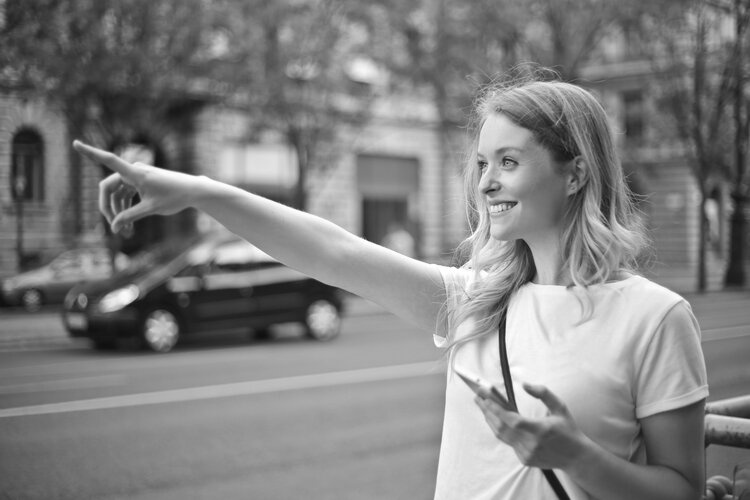pointing_gesture: (65, 139, 216, 236)
